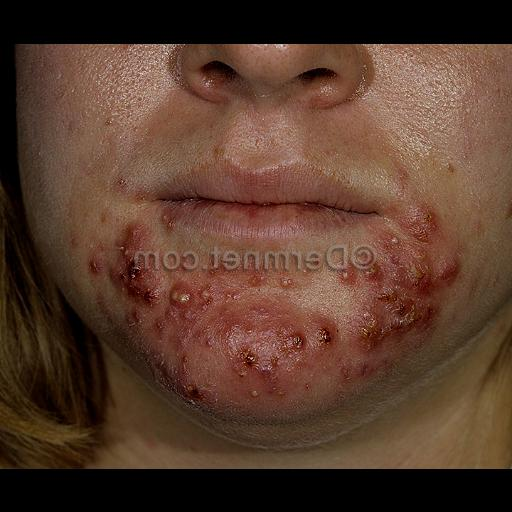Skin_Lesion: (338, 187, 490, 359), (96, 225, 150, 327), (164, 272, 224, 326), (154, 344, 206, 404), (220, 334, 268, 398), (286, 306, 332, 370), (240, 272, 298, 294), (154, 204, 174, 234)
